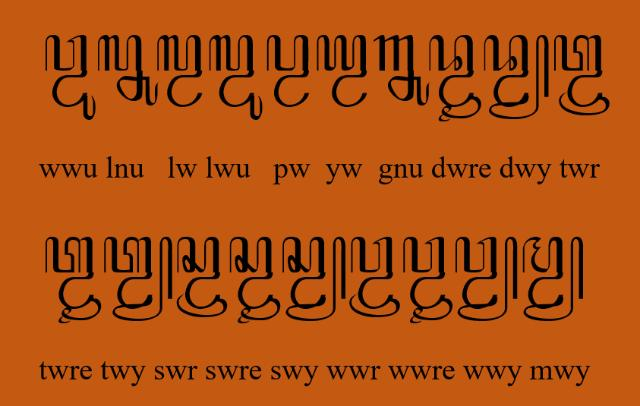dwre: (428, 33, 482, 122)
dwy: (482, 34, 550, 120)
gnu: (373, 34, 431, 107)
lnu: (97, 34, 159, 106)
lw: (156, 34, 202, 107)
lwu: (209, 34, 263, 120)
mwy: (522, 236, 584, 322)
pw: (266, 34, 310, 108)
swr: (176, 236, 228, 318)
swre: (229, 236, 281, 324)
swy: (282, 235, 346, 321)
twr: (554, 34, 610, 116)
twre: (44, 236, 102, 324)
twy: (103, 235, 173, 322)
wwr: (349, 236, 401, 318)
wwre: (403, 236, 453, 324)
wwu: (44, 34, 96, 120)
wwy: (456, 236, 518, 322)
yw: (316, 35, 368, 107)
